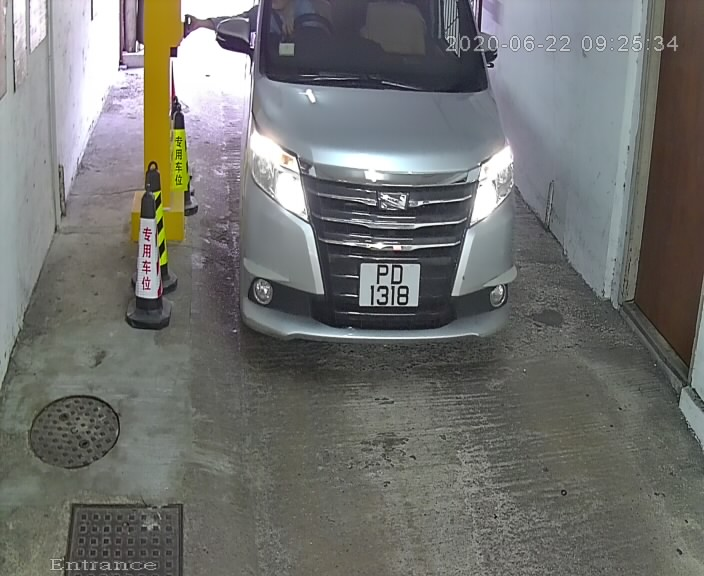privatecar: (204, 2, 566, 389)
